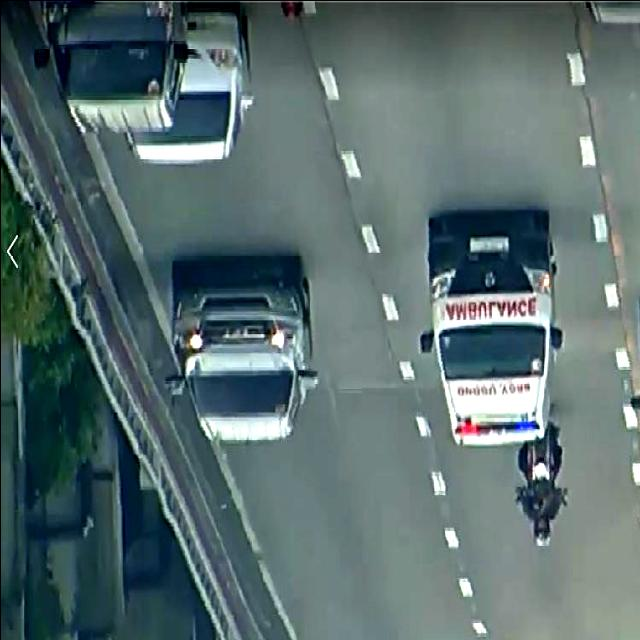emergency: (418, 213, 562, 442)
